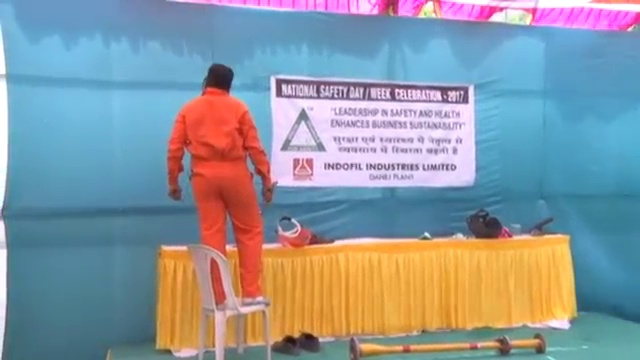helmet_off: (203, 63, 235, 97)
person: (165, 62, 276, 308)
